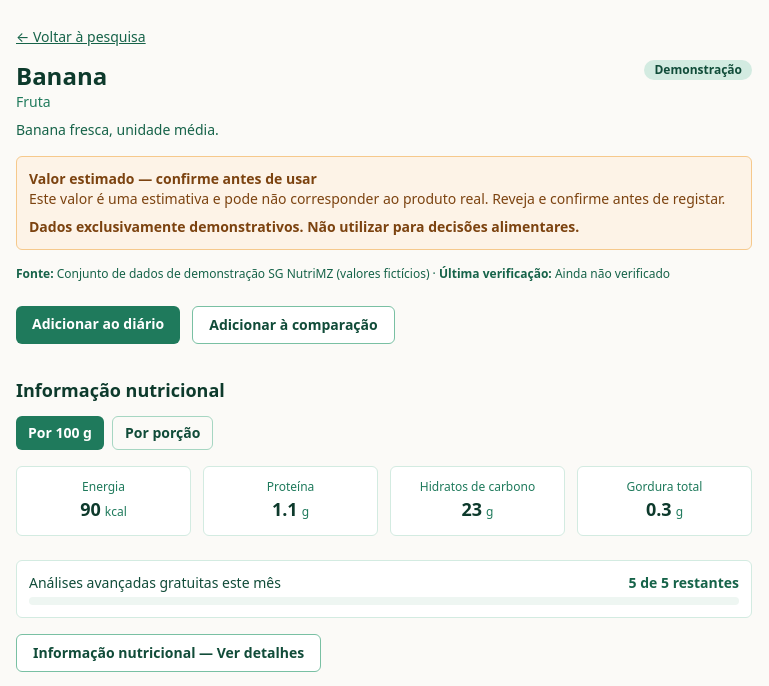
Scenario: ProductDetailClient advanced analysis paywall › reveals the full nutrient table while under the free monthly limit
What coordinates should you click on to do the following:
click the button "Informação nutricional — Ver detalhes"
I would click on:
 (169, 653)
Its box is left=16, top=634, right=321, bottom=672.
(page scrolled)
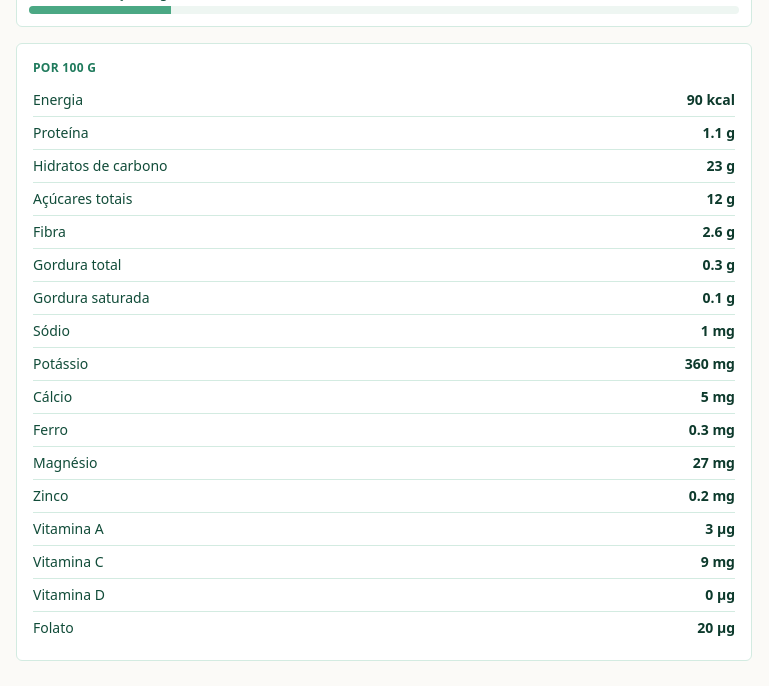
Expected: the table with test id "nutrient-table" is shown
